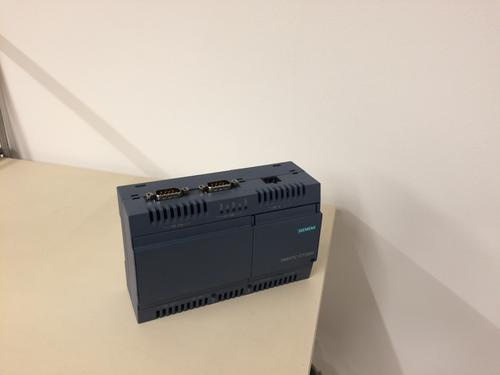iot2000: (116, 160, 323, 325)
